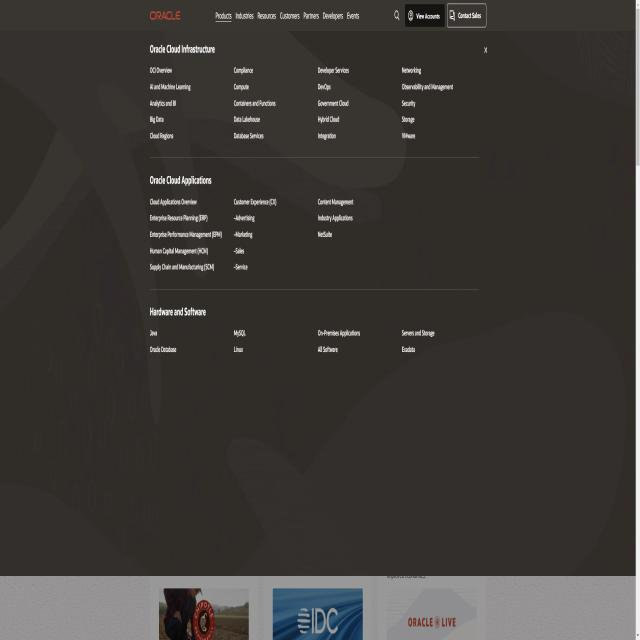menu-bar: (390, 4, 489, 30)
menu-panel: (145, 39, 491, 385)
tab-bar: (148, 7, 362, 26)
